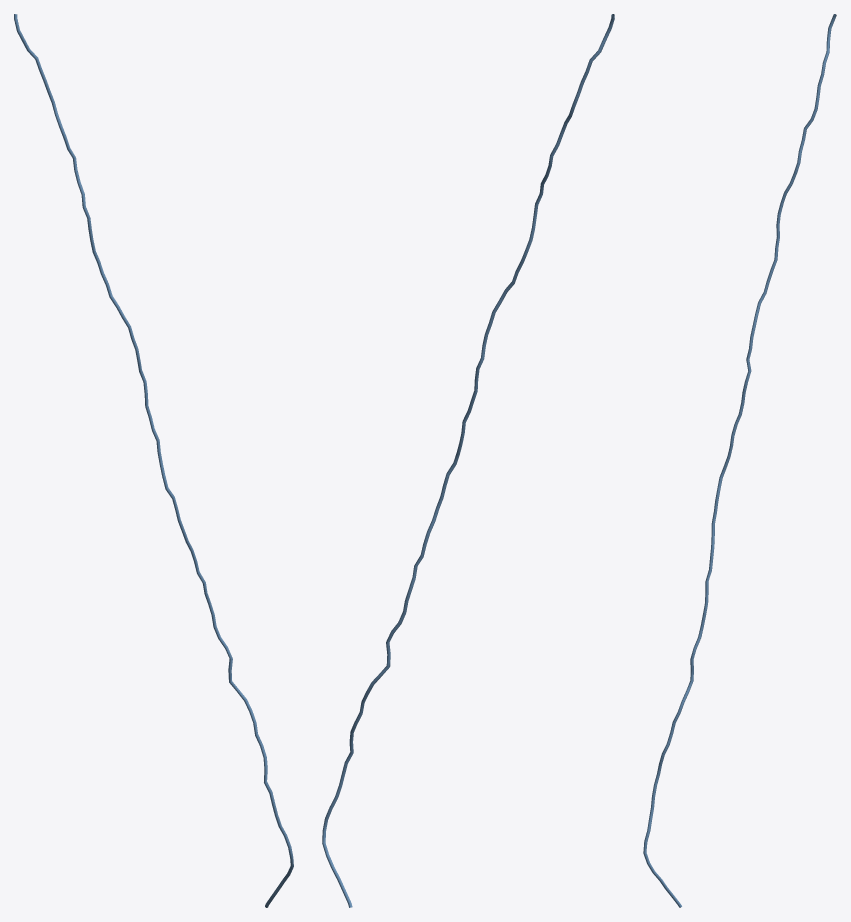
The model's file is sweep286.fbx.
The picture shows the model from 3 angles, left to right: view 1: azimuth 30°, elevation 25°; view 2: azimuth 210°, elevation 25°; view 3: azimuth 270°, elevation 25°; orthographic projection. The views are drawn at different scales.
Parts seen in each view (by area): view 1: sweep286; view 2: sweep286; view 3: sweep286.
Part boxes in pixels (bbox=[...]): sweep286: bbox=[14, 14, 293, 907]; sweep286: bbox=[322, 14, 614, 907]; sweep286: bbox=[643, 14, 836, 907].
Size of the model in its own units: 1.18 by 5.45 by 1.17.
